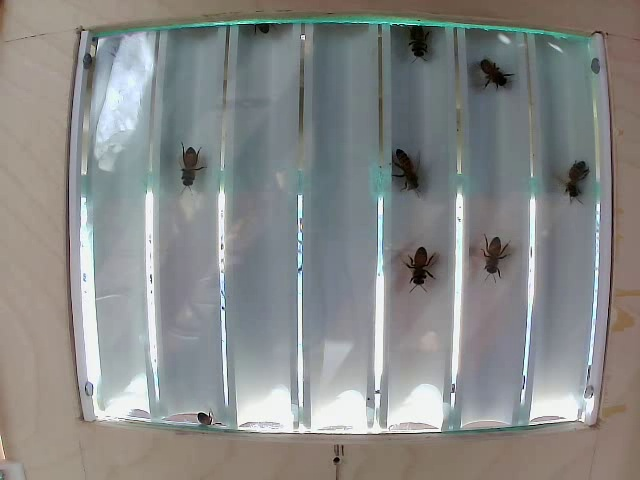bee: (469, 50, 519, 106), (387, 145, 427, 192), (402, 26, 444, 69), (402, 236, 433, 282), (167, 149, 204, 187), (477, 229, 500, 275), (559, 159, 587, 189)
